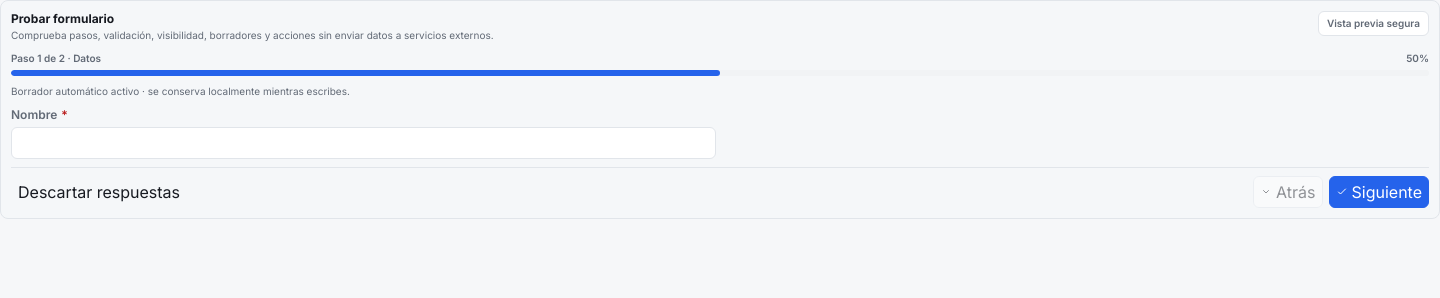
Test: M11.3/M11.4 FormValidationPreview › valida el paso actual antes de avanzar y permite volver atrás
Expected: the text "Paso 1 de 2 · Datos" is shown, [11,51,101,66]
Click the button "Siguiente" at (1379, 192), box [1328,176,1429,208]
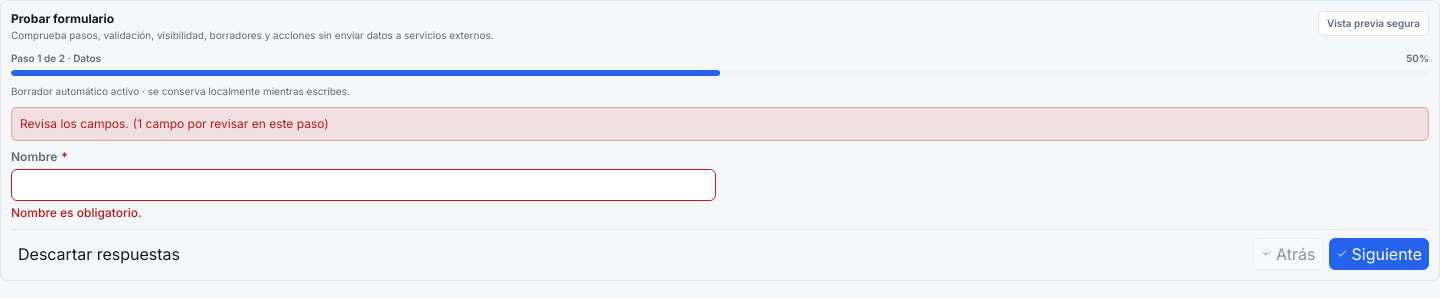
Expected: the text "Paso 1 de 2 · Datos" is shown, [11,51,101,66]
Expected: the text "Nombre es obligatorio." is shown, [11,205,142,220]
Type "Ada" into the field labelled "Nombre*" at (364, 185), box [11,169,716,201]
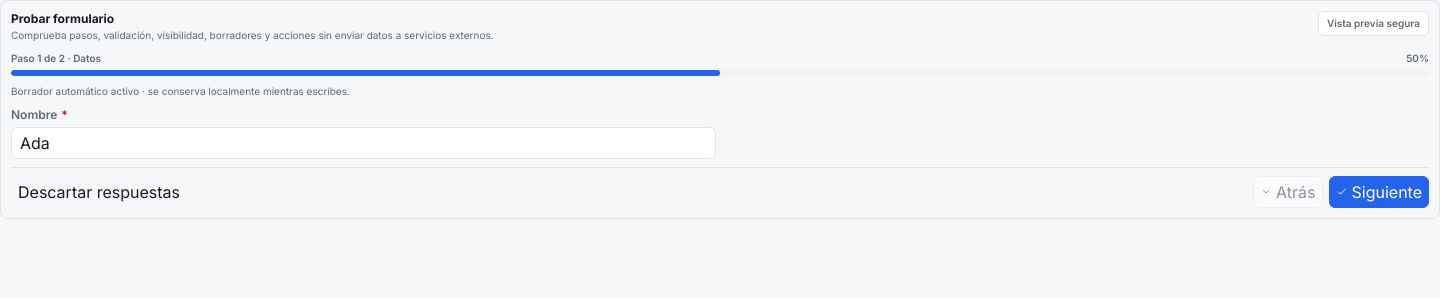
Click the button "Siguiente" at (1379, 192), box [1328,176,1429,208]
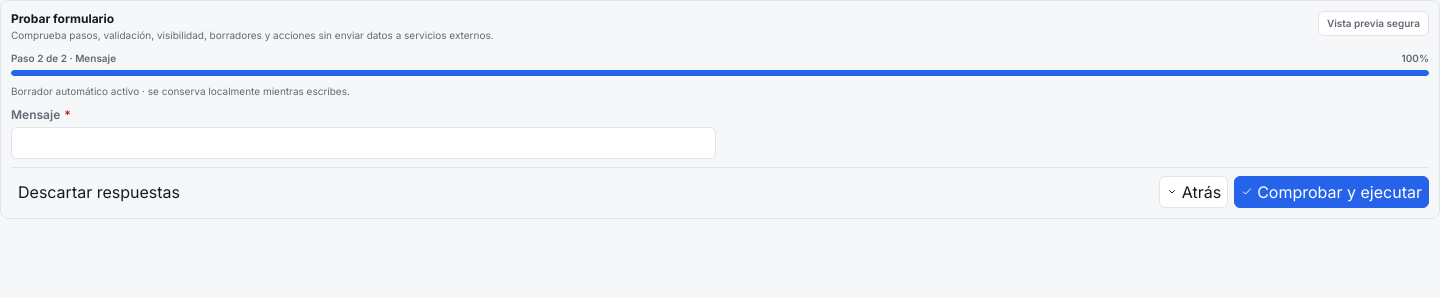
Expected: the field labelled "Mensaje*" is shown, [11,127,716,159]
Expected: the text "Paso 2 de 2 · Mensaje" is shown, [11,51,116,66]
Click the button "Atrás" at (1193, 192), box [1159,176,1228,208]
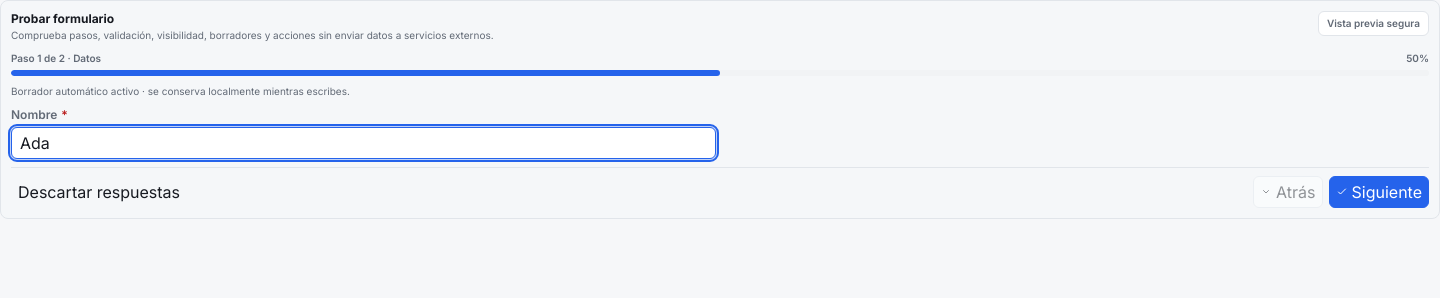
Expected: the text "Paso 1 de 2 · Datos" is shown, [11,51,101,66]
Expected: the field labelled "Nombre*" holds "Ada", [11,127,716,159]
